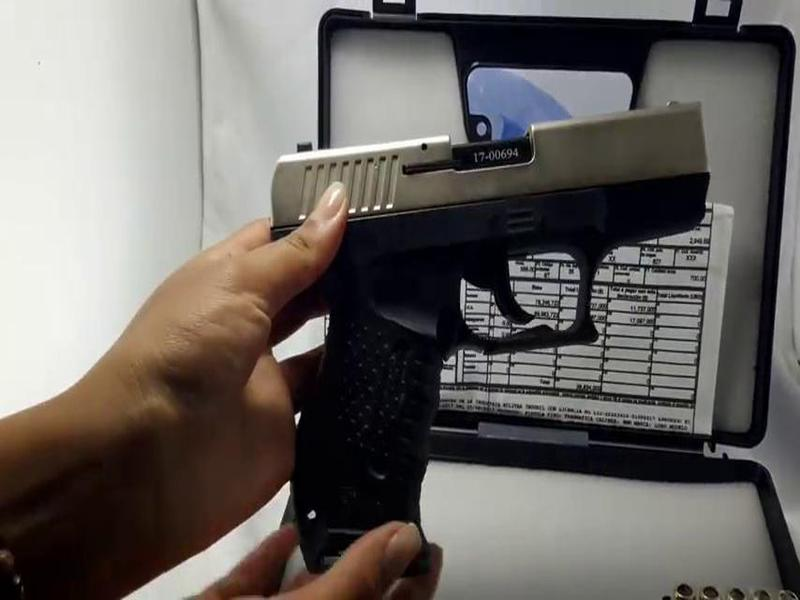Pistola: (186, 86, 757, 561)
